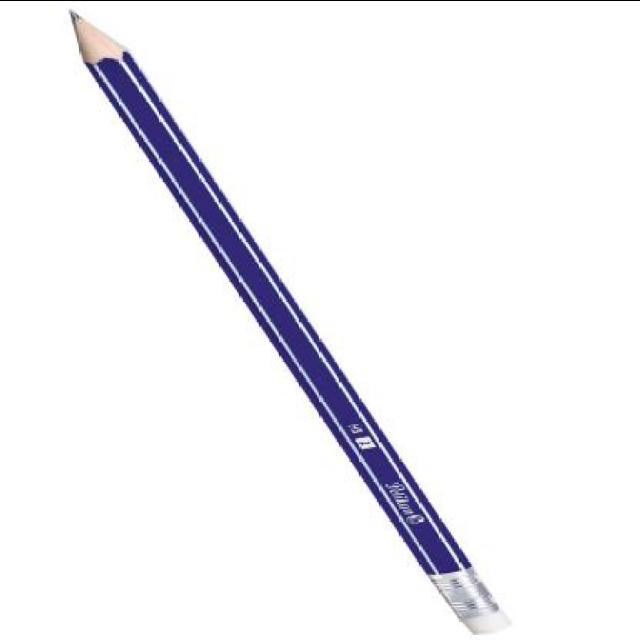Pencil: (67, 3, 171, 109)
